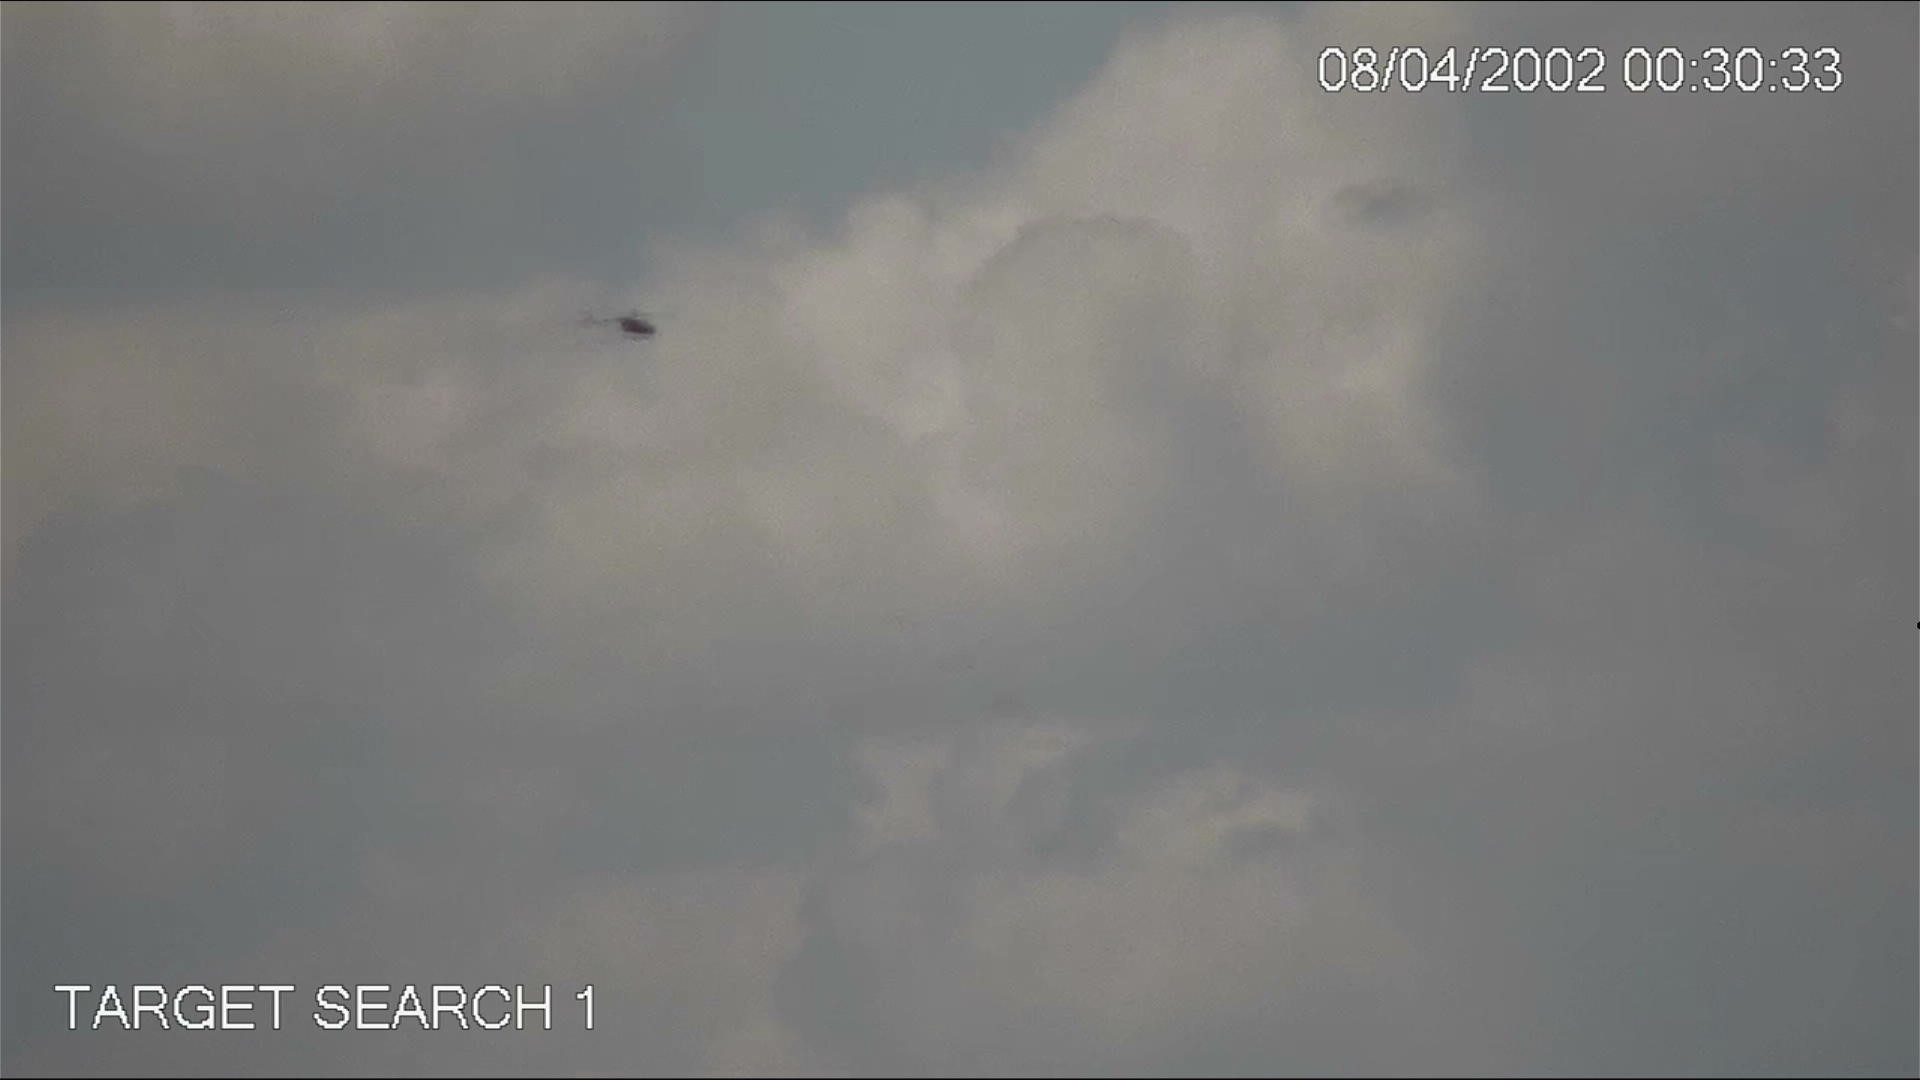SU_30: (578, 299, 676, 339)
